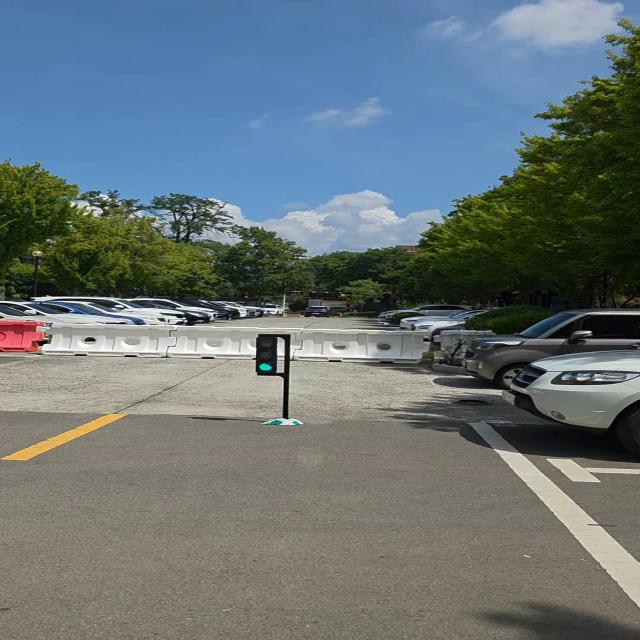green: (255, 336, 284, 376)
